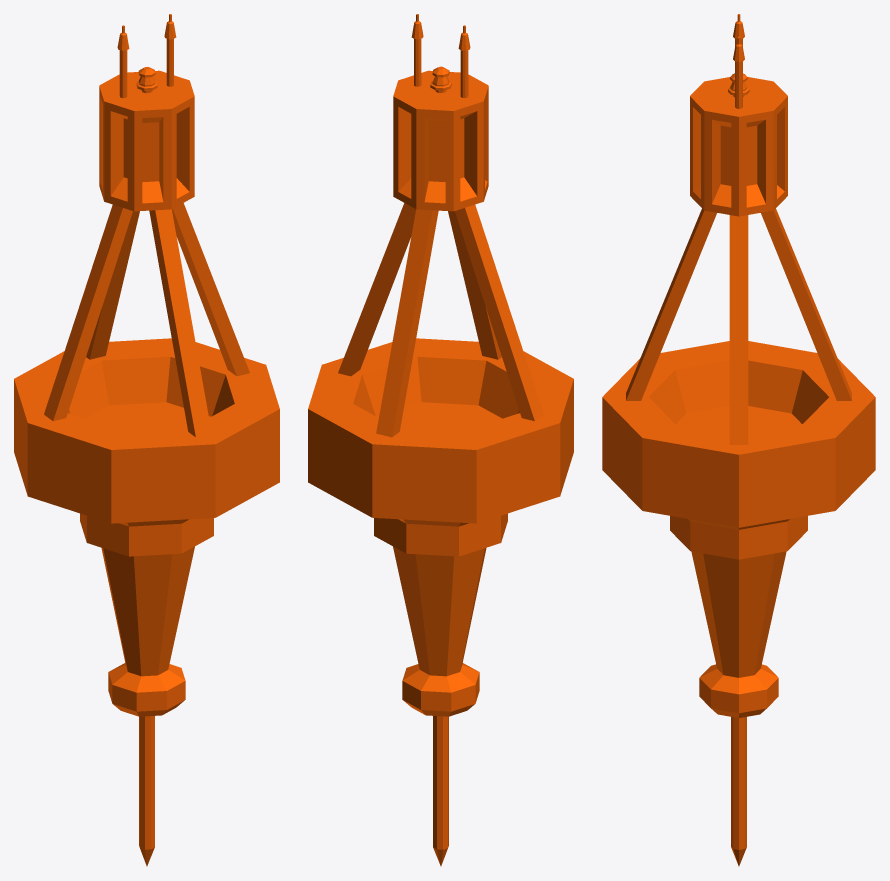
File: Buoy.FBX
The picture shows the model from 3 angles, left to right: view 1: azimuth 30°, elevation 25°; view 2: azimuth 150°, elevation 25°; view 3: azimuth 270°, elevation 25°; orthographic projection.
Parts seen in each view (by area): view 1: Cylinder001; view 2: Cylinder001; view 3: Cylinder001.
Part boxes in pixels (box(x1,y1,x2,y2)): Cylinder001: box(14, 14, 279, 866); Cylinder001: box(308, 14, 573, 866); Cylinder001: box(602, 14, 875, 866).
Bounding box in the file's own units: 1.1 × 3.72 × 1.1.
